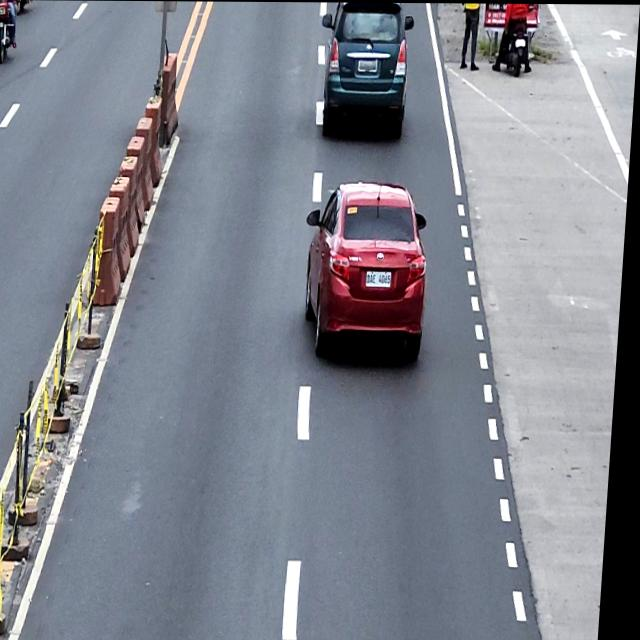Car: (302, 181, 436, 365), (316, 2, 416, 141)
License-Plate: (369, 270, 396, 287), (359, 59, 379, 71), (516, 39, 526, 47)
Motorcycle: (505, 3, 530, 78)
